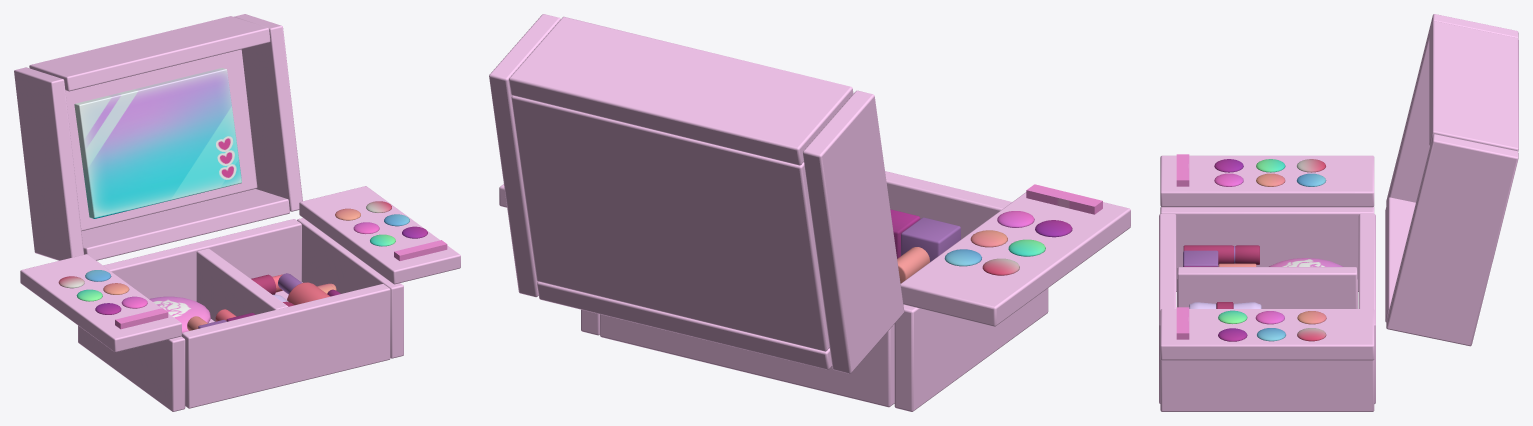
The model's file is level_9.fbx.
3 renders of one model, left to right at view 1: azimuth 30°, elevation 25°; view 2: azimuth 150°, elevation 25°; view 3: azimuth 270°, elevation 25°, orthographic. The views are drawn at different scales.
Visible parts, largest first — view 1: Cube.016, Cube.005, Cube.013, Cube.012, Cube.003, Cube.015, Cube.011, Cube.014, Cube.017, Cube.020, Cube.006, Cube.004 (+5 smaller); view 2: Cube.011, Cube.012, Cube.013, Cube.017, Cube.004, Cube.003, Cube.015, Cube.014, Cube.005, Cube.007, Cube.019, Cylinder (+1 smaller); view 3: Cube.015, Cube.006, Cube.012, Cube.017, Cube.004, Cube.020, Cube.009, Cube.013, Cube.014, Cube.005, Cube.003, Cylinder.002 (+8 smaller).
Boxes of the visible parts, bbox=[...] form: Cube.016: bbox=[74, 68, 241, 218]; Cube.005: bbox=[181, 284, 390, 408]; Cube.013: bbox=[14, 67, 83, 260]; Cube.012: bbox=[29, 16, 270, 91]; Cube.003: bbox=[103, 219, 301, 301]; Cube.015: bbox=[234, 14, 302, 211]; Cube.011: bbox=[65, 49, 257, 230]; Cube.014: bbox=[81, 189, 289, 260]; Cube.017: bbox=[20, 254, 181, 352]; Cube.020: bbox=[299, 186, 460, 284]; Cube.006: bbox=[297, 218, 403, 358]; Cube.004: bbox=[78, 325, 185, 411]; Cube.011: bbox=[511, 95, 829, 351]; Cube.012: bbox=[509, 16, 853, 165]; Cube.013: bbox=[803, 90, 904, 373]; Cube.017: bbox=[900, 192, 1130, 326]; Cube.004: bbox=[894, 288, 1048, 411]; Cube.003: bbox=[600, 314, 894, 407]; Cube.015: bbox=[489, 14, 560, 297]; Cube.014: bbox=[537, 281, 831, 369]; Cube.005: bbox=[885, 171, 1011, 239]; Cube.007: bbox=[901, 217, 960, 261]; Cube.019: bbox=[1026, 184, 1102, 214]; Cylinder: bbox=[897, 247, 929, 283]; Cube.015: bbox=[1386, 134, 1518, 346]; Cube.006: bbox=[1160, 359, 1374, 411]; Cube.012: bbox=[1429, 21, 1518, 151]; Cube.017: bbox=[1160, 155, 1374, 207]; Cube.004: bbox=[1160, 207, 1374, 291]; Cube.020: bbox=[1160, 309, 1374, 360]; Cube.009: bbox=[1177, 267, 1357, 308]; Cube.013: bbox=[1386, 14, 1518, 205]; Cube.014: bbox=[1385, 197, 1415, 321]; Cube.005: bbox=[1159, 214, 1176, 403]; Cube.003: bbox=[1358, 214, 1375, 403]; Cylinder.002: bbox=[1183, 245, 1259, 264].
Bounding box in the file's own units: 13.89 × 9.3 × 11.1.
